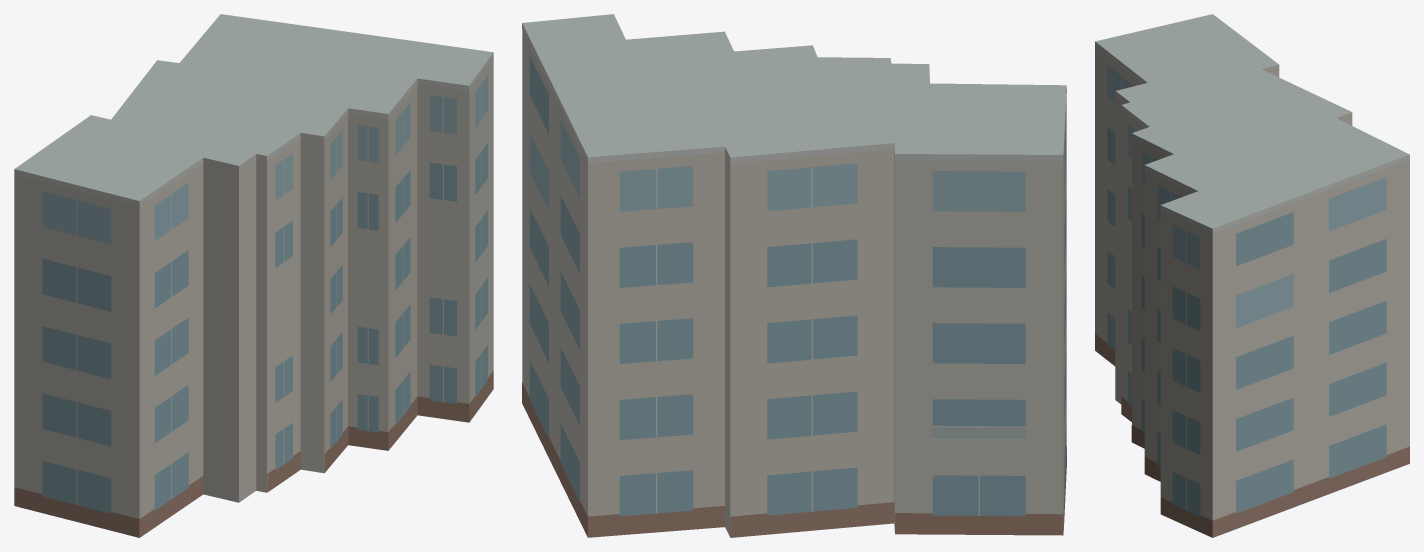
The model's file is survey-upis-32589565.glb.
The picture shows the model from 3 angles, left to right: view 1: azimuth 30°, elevation 25°; view 2: azimuth 150°, elevation 25°; view 3: azimuth 270°, elevation 25°; orthographic projection. The views are drawn at different scales.
Parts seen in each view (by area): view 1: survey-upis-32589565.tmp; view 2: survey-upis-32589565.tmp; view 3: survey-upis-32589565.tmp.
Boxes of the visible parts, bbox=[...] form: survey-upis-32589565.tmp: bbox=[14, 14, 493, 537]; survey-upis-32589565.tmp: bbox=[522, 14, 1066, 537]; survey-upis-32589565.tmp: bbox=[1095, 14, 1409, 537].
Size of the model in its own units: 23.54 by 15.8 by 14.59.
